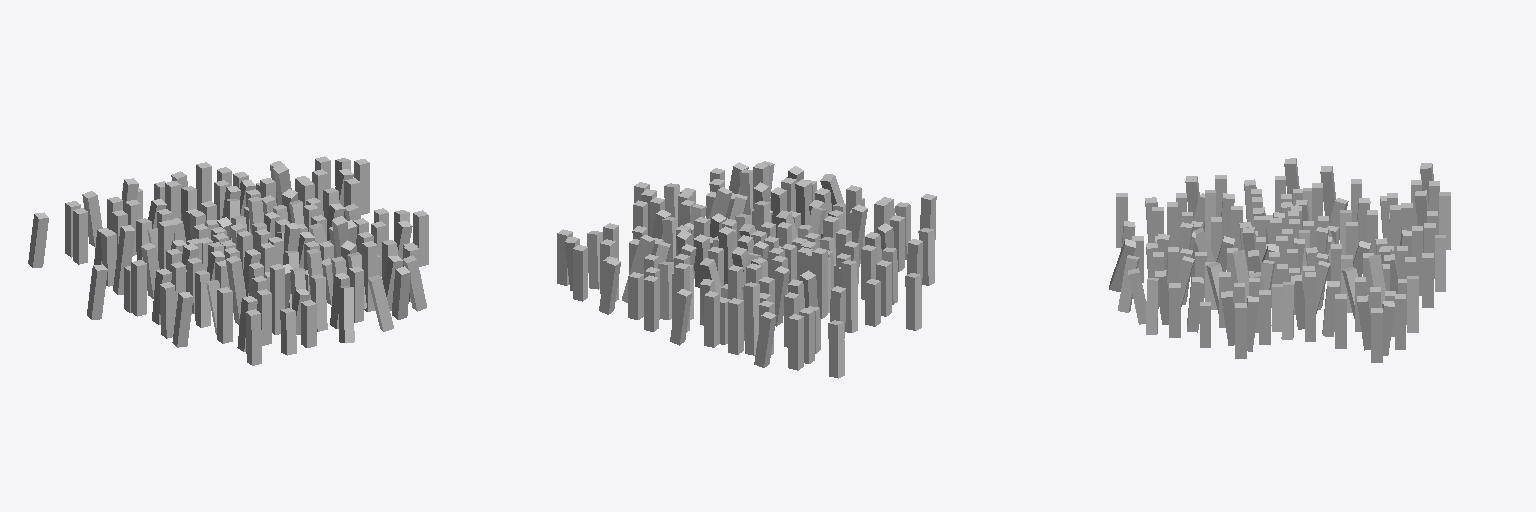
The model's file is grass.obj.
The picture shows the model from 3 angles: view 1: azimuth 30°, elevation 25°; view 2: azimuth 150°, elevation 25°; view 3: azimuth 270°, elevation 25°; orthographic projection.
Visible parts, largest first — view 1: Cube.013, Cube.102, Cube.138, Cube.116, Cube.140, Cube.137, Cube.031, Cube.136, Cube.118, Cube.033, Cube.112, Cube.092 (+17 smaller); view 2: Cube.016, Cube.013, Cube.031, Cube.118, Cube.043, Cube.023, Cube.038, Cube.011, Cube.071, Cube.026, Cube.041, Cube.073 (+19 smaller); view 3: Cube.059, Cube.055, Cube.094, Cube.071, Cube.075, Cube.028, Cube.074, Cube.072, Cube.090, Cube.076, Cube.082, Cube.026 (+9 smaller).
Part boxes in pixels (bbox=[...]): Cube.013: bbox=[113, 225, 135, 294]; Cube.102: bbox=[338, 286, 354, 342]; Cube.138: bbox=[217, 287, 232, 343]; Cube.116: bbox=[131, 260, 146, 316]; Cube.140: bbox=[270, 264, 284, 334]; Cube.137: bbox=[245, 309, 261, 365]; Cube.031: bbox=[28, 212, 48, 267]; Cube.136: bbox=[172, 292, 192, 347]; Cube.118: bbox=[87, 264, 107, 319]; Cube.033: bbox=[73, 208, 87, 264]; Cube.112: bbox=[195, 270, 210, 327]; Cube.092: bbox=[392, 266, 410, 319]; Cube.016: bbox=[744, 282, 759, 355]; Cube.013: bbox=[841, 260, 857, 332]; Cube.031: bbox=[828, 320, 844, 378]; Cube.118: bbox=[905, 273, 921, 330]; Cube.043: bbox=[728, 298, 743, 354]; Cube.023: bbox=[704, 291, 719, 347]; Cube.038: bbox=[788, 314, 803, 370]; Cube.011: bbox=[812, 248, 827, 318]; Cube.071: bbox=[599, 258, 620, 314]; Cube.026: bbox=[670, 289, 691, 345]; Cube.041: bbox=[754, 312, 776, 367]; Cube.073: bbox=[573, 245, 587, 301]; Cube.059: bbox=[1305, 272, 1315, 341]; Cube.055: bbox=[1281, 282, 1294, 339]; Cube.094: bbox=[1146, 278, 1158, 334]; Cube.071: bbox=[1407, 276, 1418, 332]; Cube.075: bbox=[1235, 303, 1246, 358]; Cube.028: bbox=[1422, 253, 1433, 307]; Cube.074: bbox=[1371, 308, 1382, 362]; Cube.072: bbox=[1335, 294, 1346, 348]; Cube.090: bbox=[1169, 283, 1180, 337]; Cube.076: bbox=[1259, 290, 1270, 344]; Cube.082: bbox=[1187, 277, 1202, 332]; Cube.026: bbox=[1435, 235, 1445, 291].
Size of the model in its own units: 2.57 by 0.5696 by 2.38.